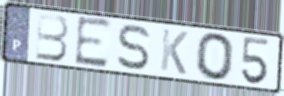5: (240, 35, 271, 87)
B: (34, 12, 71, 63)
E: (73, 14, 114, 70)
K: (158, 27, 190, 77)
O: (194, 31, 236, 83)
S: (115, 23, 152, 72)
